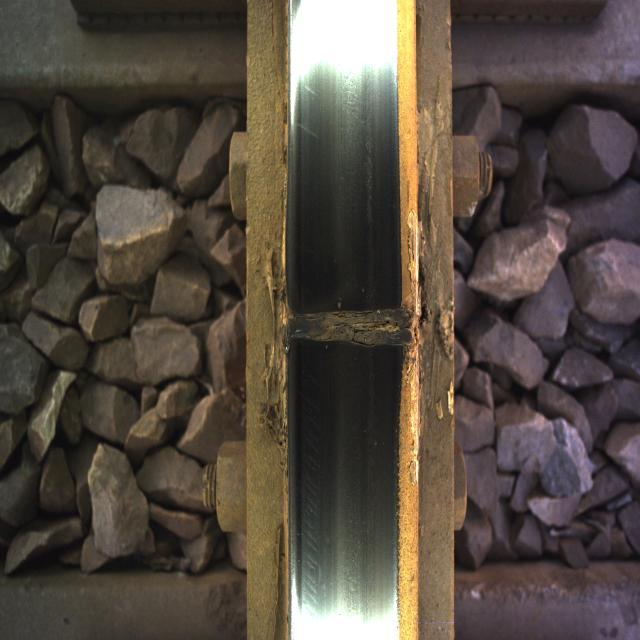spalling: (265, 252, 444, 382)
